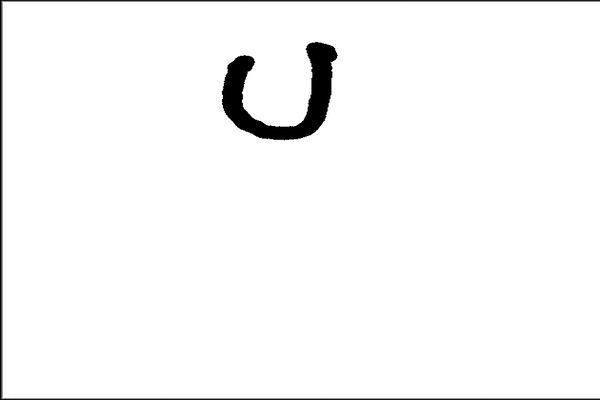U: (215, 34, 344, 145)
